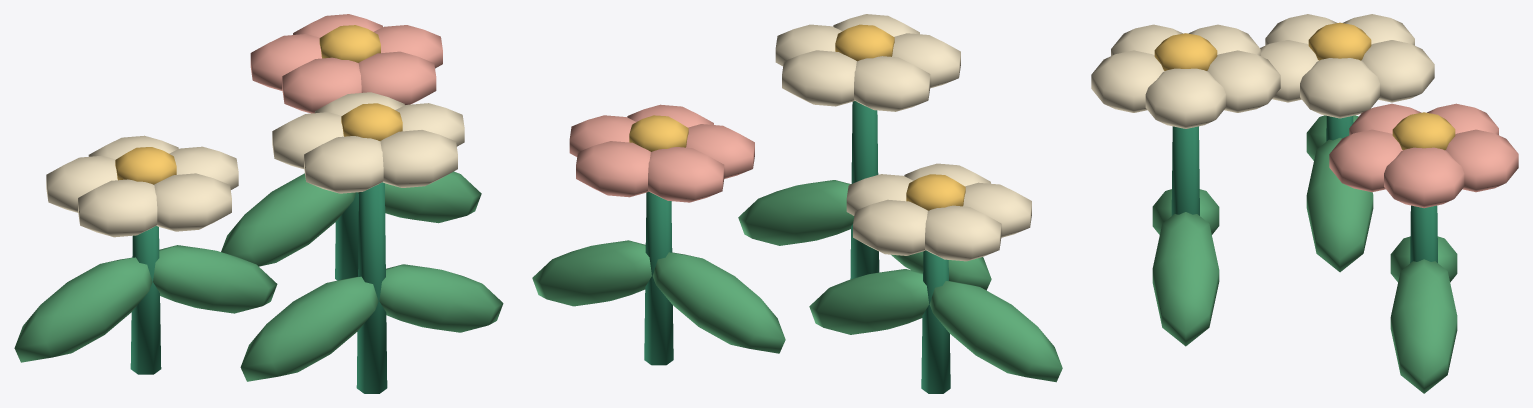
The model's file is flower_patch.glb.
3 renders of one model, left to right at view 1: azimuth 30°, elevation 25°; view 2: azimuth 150°, elevation 25°; view 3: azimuth 270°, elevation 25°, orthographic. The views are drawn at different scales.
Visible parts, largest first — view 1: flower_patch_mesh; view 2: flower_patch_mesh; view 3: flower_patch_mesh.
Boxes of the visible parts, x1,y1,x2,y2 form: flower_patch_mesh: (14, 14, 503, 393); flower_patch_mesh: (532, 14, 1062, 393); flower_patch_mesh: (1091, 14, 1518, 393).
Size of the model in its own units: 0.8486 by 0.447 by 0.6101.
